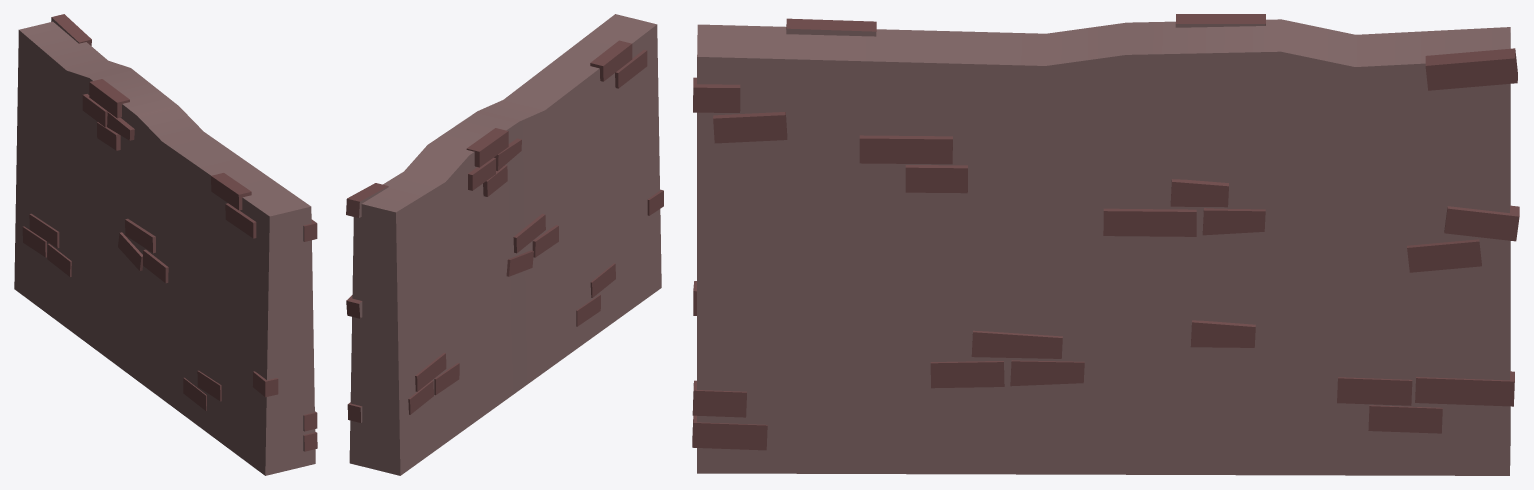
File: Wall.fbx
The picture shows the model from 3 angles, left to right: view 1: azimuth 30°, elevation 25°; view 2: azimuth 150°, elevation 25°; view 3: azimuth 270°, elevation 25°; orthographic projection. The views are drawn at different scales.
Parts seen in each view (by area): view 1: MuroLP:pCube37; view 2: MuroLP:pCube37; view 3: MuroLP:pCube37.
Part boxes in pixels (<box>): MuroLP:pCube37: <box>14,14,317,475</box>; MuroLP:pCube37: <box>346,14,663,475</box>; MuroLP:pCube37: <box>692,14,1519,475</box>.
Bounding box in the file's own units: 202 × 915 × 1627.
